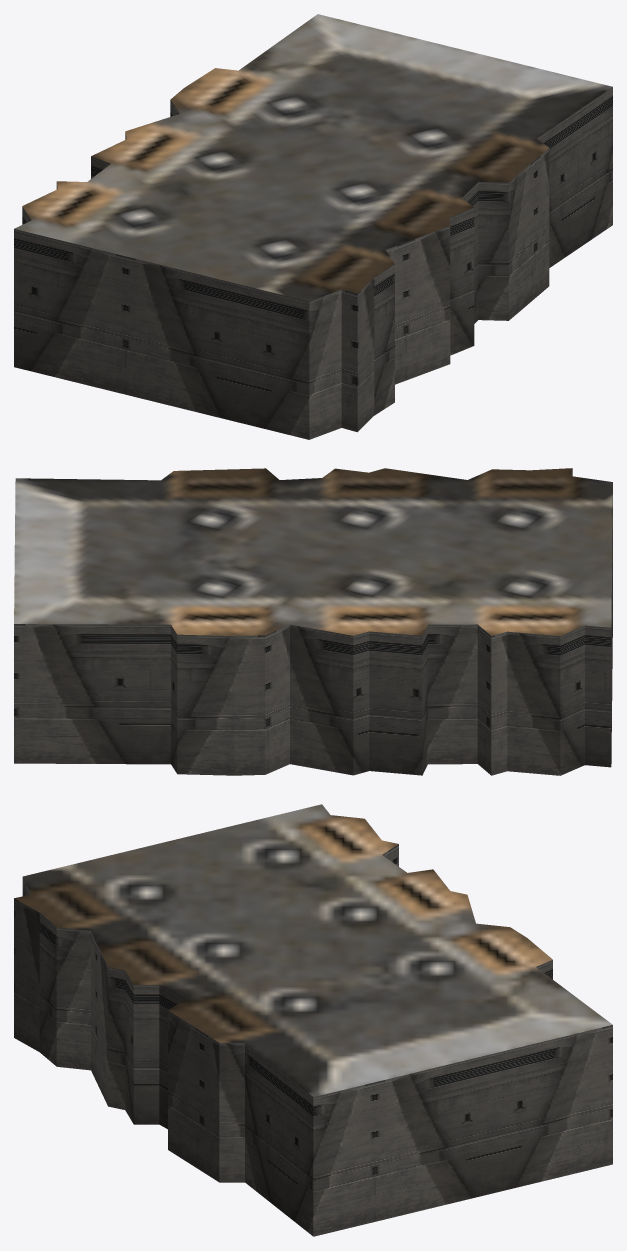
The model's file is fortress_medium_a_16.glb.
The picture shows the model from 3 angles, top to bottom: view 1: azimuth 30°, elevation 25°; view 2: azimuth 150°, elevation 25°; view 3: azimuth 270°, elevation 25°; orthographic projection.
Visible parts, largest first — view 1: buildings/saxarba/fortress_medium/fortress_medium_a_16; view 2: buildings/saxarba/fortress_medium/fortress_medium_a_16; view 3: buildings/saxarba/fortress_medium/fortress_medium_a_16.
Boxes of the visible parts, <box> form: buildings/saxarba/fortress_medium/fortress_medium_a_16: <box>14,14,612,439</box>; buildings/saxarba/fortress_medium/fortress_medium_a_16: <box>14,468,612,775</box>; buildings/saxarba/fortress_medium/fortress_medium_a_16: <box>14,804,612,1236</box>.
Size of the model in its own units: 81 by 18 by 70.
